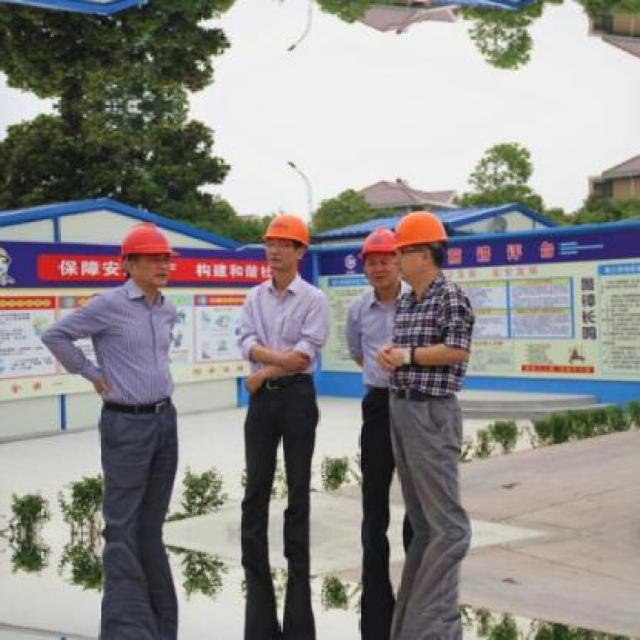helmet: (393, 205, 453, 284), (120, 218, 174, 286), (259, 210, 313, 278), (356, 223, 401, 291)
